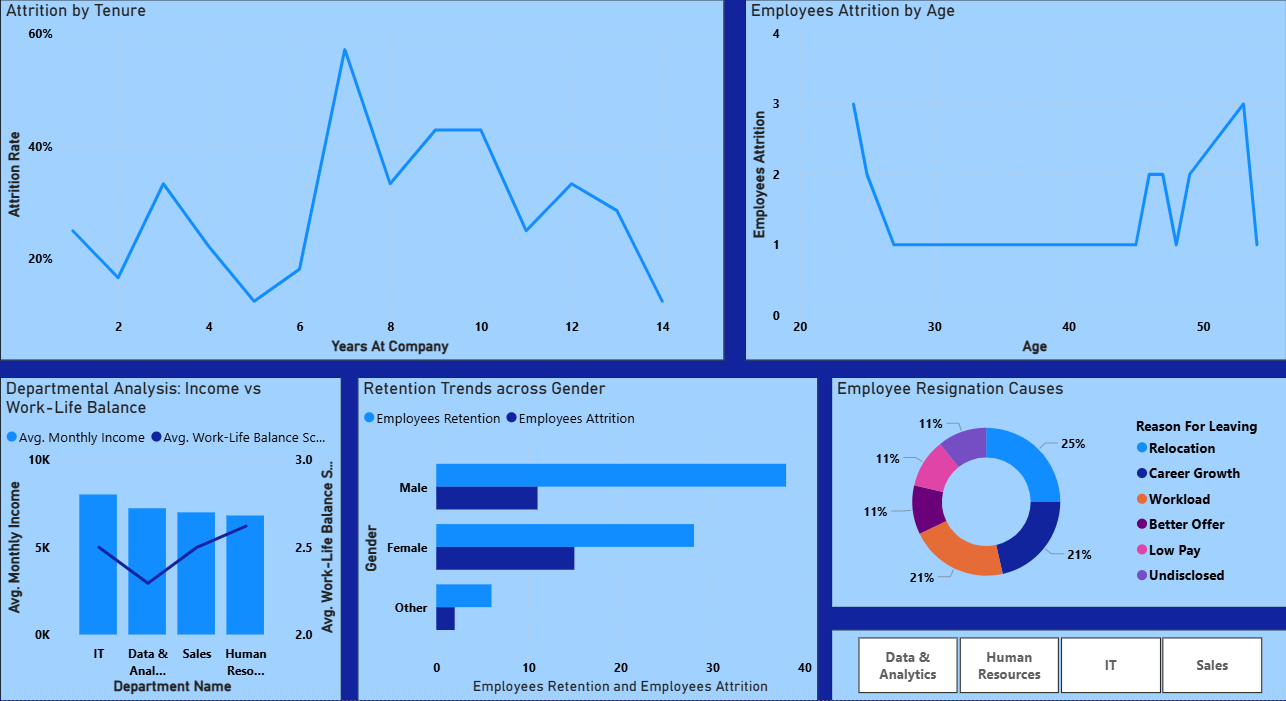

The page's visual inventory and layout, read from the dashboard file:
{"tool":"powerbi","page":{"name":"Page 2","canvas":[1280,720],"ordinal":1},"visuals":[{"type":"lineChart","title":"Attrition by Tenure","fields":{"Y":["Attrition.Attrition Rate"],"Category":["Employees.Years At Company"]},"box":[0,22.7,720.6,359.5],"z":0},{"type":"lineStackedColumnComboChart","title":"Departmental Analysis: Income vs Work-Life Balance","fields":{"Y":["Avg(Employees.Monthly Income)"],"Category":["Departments.Department Name"],"Y2":["Avg(Employees.Work Life Balance)"]},"box":[0,398.3,340,322.2],"z":2000},{"type":"donutChart","title":"Employee Resignation Causes","fields":{"Y":["Attrition.Employees Left"],"Category":["Attrition.Reason For Leaving"]},"box":[827.4,398.3,453.4,229.9],"z":5000},{"type":"clusteredBarChart","title":"Retention Trends across Gender","fields":{"Y":["Attrition.Employees Stayed","Attrition.Employees Left"],"Category":["Employees.Gender"]},"box":[356.2,398.3,458.2,322.2],"z":6001},{"type":"slicer","fields":{"Values":["Departments.Department Name"]},"box":[827.4,649.3,453.4,71.2],"z":6002},{"type":"lineChart","fields":{"Category":["Employees.Age"],"Y":["Attrition.Employees Attrition"]},"box":[741.6,22.7,539.2,359.5],"z":6003}]}

Visuals, with their boxes in screenshot pixels (x1, y1, x2, y2):
"Attrition by Tenure" lineChart: <box>0,0,716,356</box>
"Departmental Analysis: Income vs Work-Life Balance" lineStackedColumnComboChart: <box>0,372,338,693</box>
"Employee Resignation Causes" donutChart: <box>822,372,1273,601</box>
"Retention Trends across Gender" clusteredBarChart: <box>354,372,809,693</box>
slicer - Departments.Department Name: <box>822,622,1273,693</box>
lineChart - Employees.Age x Attrition.Employees Attrition: <box>737,0,1273,356</box>
